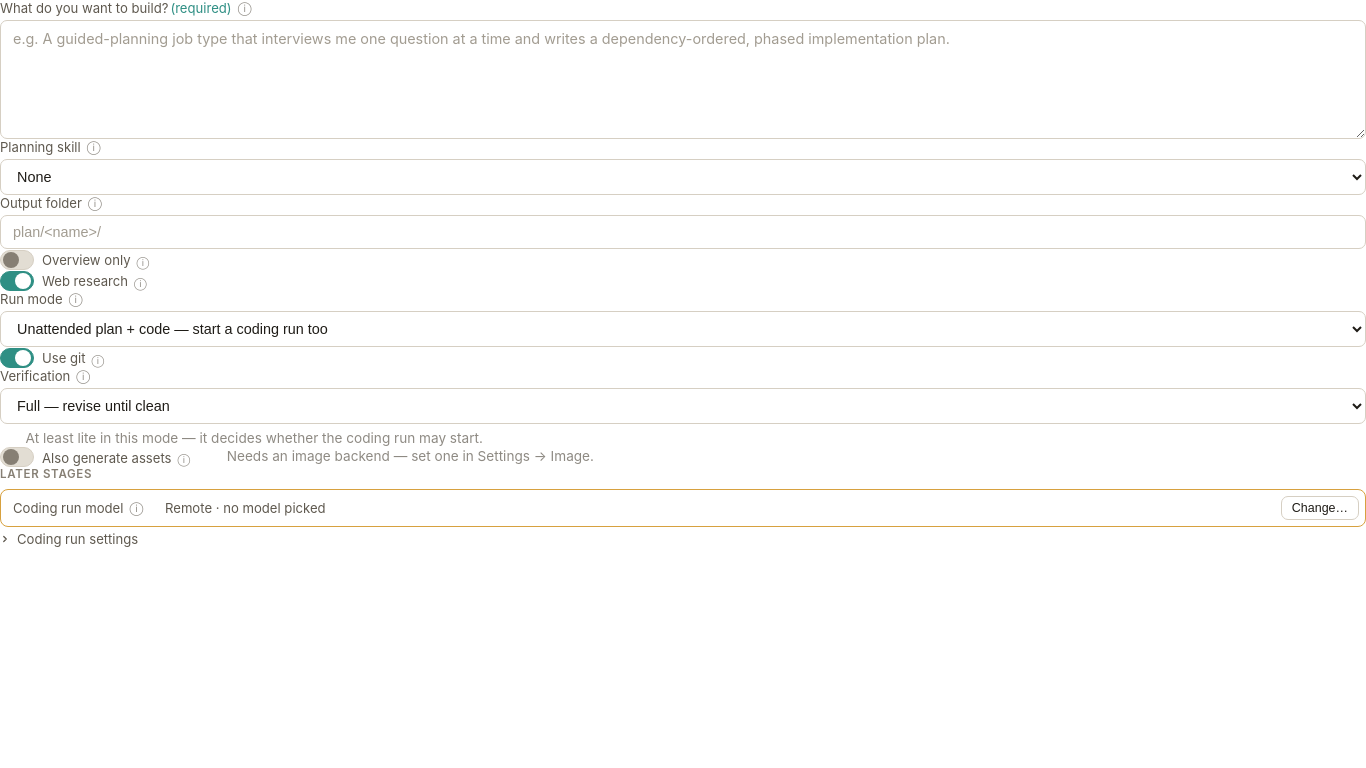
Test: guided-planning Editor › stage models › opens the model fields in a dialog, with the Settings model as a choice
expect the text "Remote server" is not shown: met
Click the button with aria-label "Change the coding run model". click: (1320, 508)
box: [1281, 496, 1359, 520]
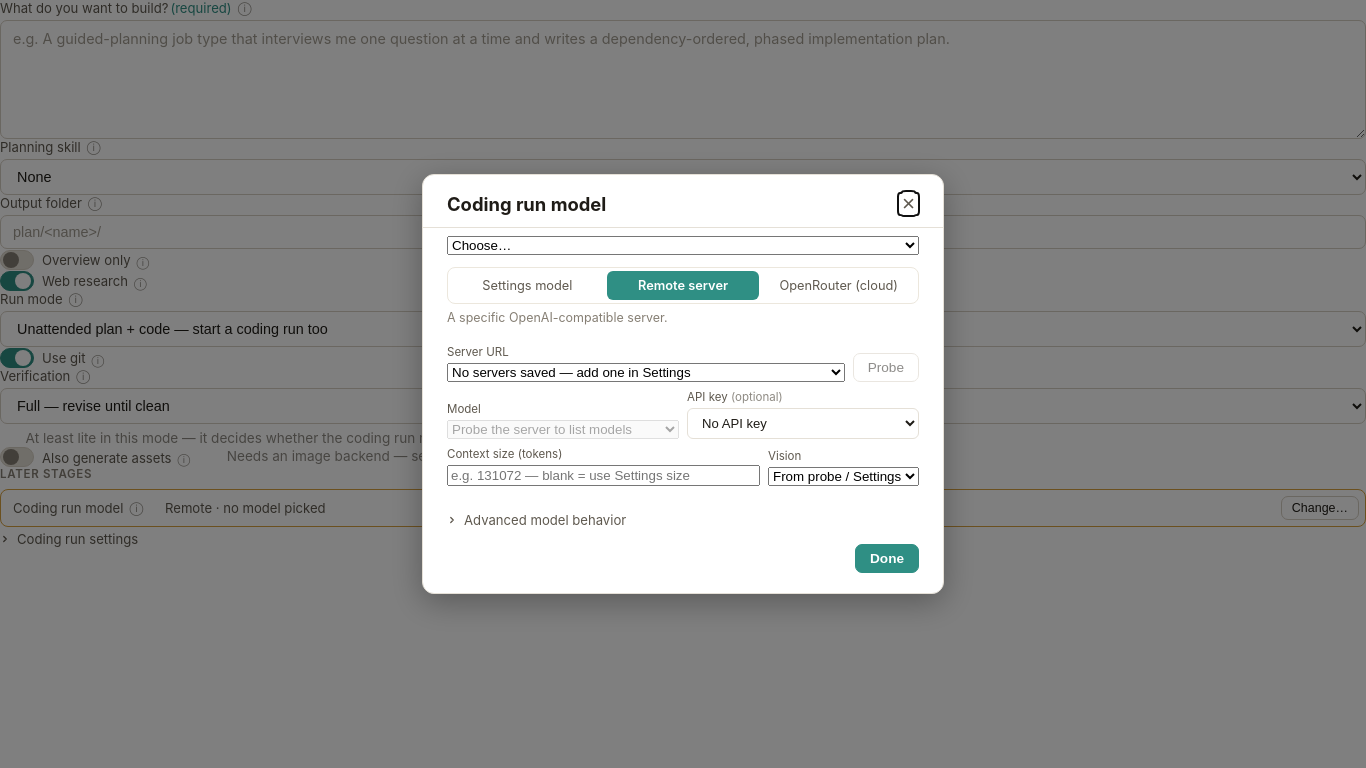
expect the dropdown named "Coding run model" shows "Choose…": met, box [447, 236, 919, 255]
expect the text "Remote server" is shown: met, box [638, 278, 728, 293]
expect the text "Settings model" is shown: met, box [481, 278, 574, 293]
